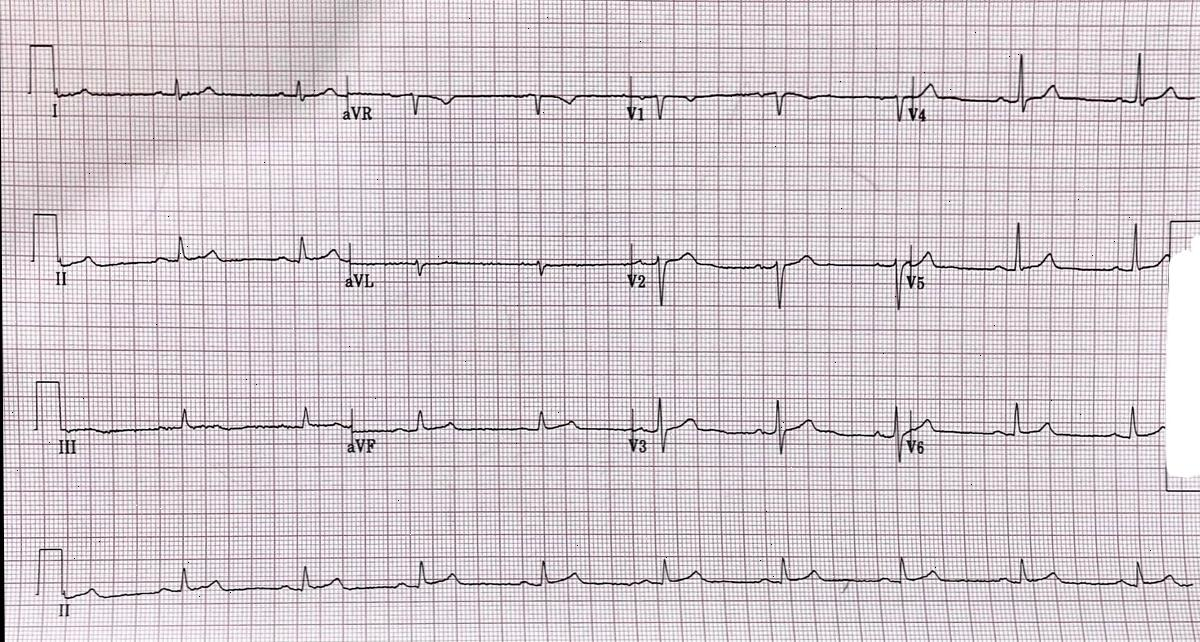Lead_I: (50, 50, 346, 135)
Lead_II: (53, 211, 348, 301)
Lead_III: (51, 388, 350, 463)
Lead_II_ext: (58, 550, 1195, 627)
Lead_V1: (626, 54, 912, 140)
Lead_V2: (621, 229, 914, 317)
Lead_V3: (623, 388, 910, 471)
Lead_V4: (907, 44, 1197, 136)
Lead_V5: (906, 211, 1173, 299)
Lead_V6: (901, 386, 1179, 474)
Lead_aVF: (344, 392, 634, 472)
Lead_aVL: (338, 224, 633, 304)
Lead_aVR: (335, 50, 631, 136)
